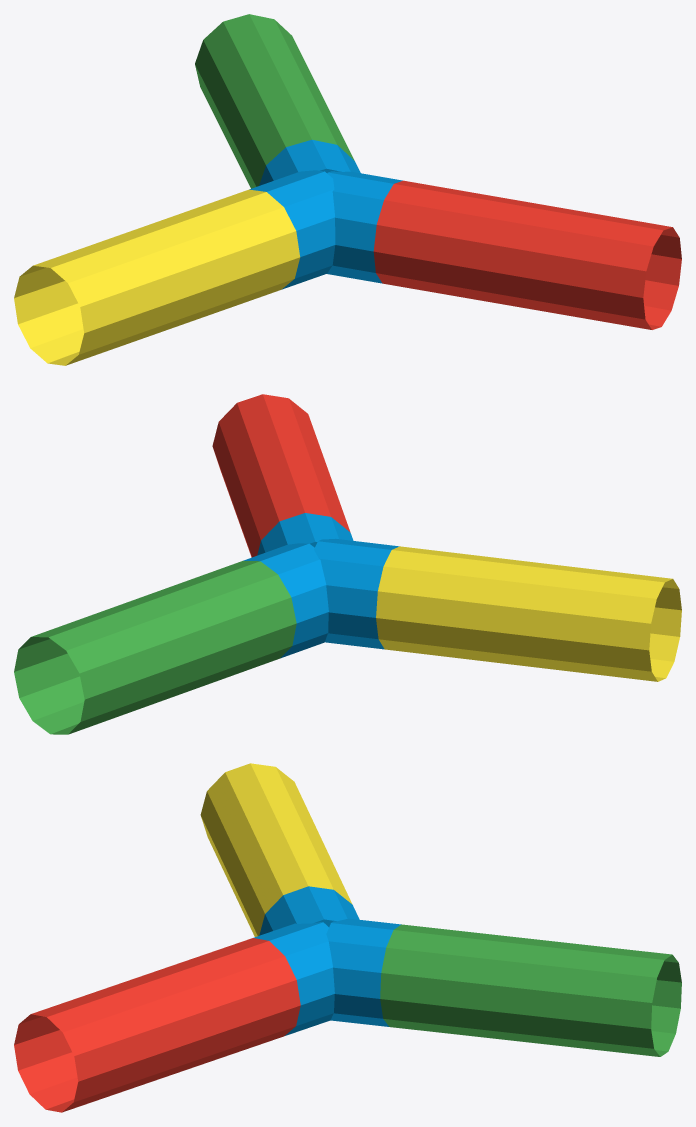
Rendered from cat-tunnel-tube.glb.
3 views of the same model, one above another, from view 1: azimuth 30°, elevation 25°; view 2: azimuth 150°, elevation 25°; view 3: azimuth 270°, elevation 25° (orthographic). The views are drawn at different scales.
Visible parts, largest first — view 1: group249784605, group948654170, group287608438; view 2: group948654170, group287608438, group249784605; view 3: group287608438, group249784605, group948654170.
Boxes of the visible parts, x1,y1,x2,y2 form: group249784605: (327, 171, 681, 329); group948654170: (14, 170, 335, 365); group287608438: (195, 14, 360, 188); group948654170: (314, 538, 681, 681); group287608438: (14, 543, 328, 734); group249784605: (212, 394, 353, 557); group287608438: (326, 918, 681, 1056); group249784605: (14, 922, 334, 1112); group948654170: (200, 763, 359, 936).
Size of the model in its own units: 0.4855 by 0.0888 by 0.5172.
